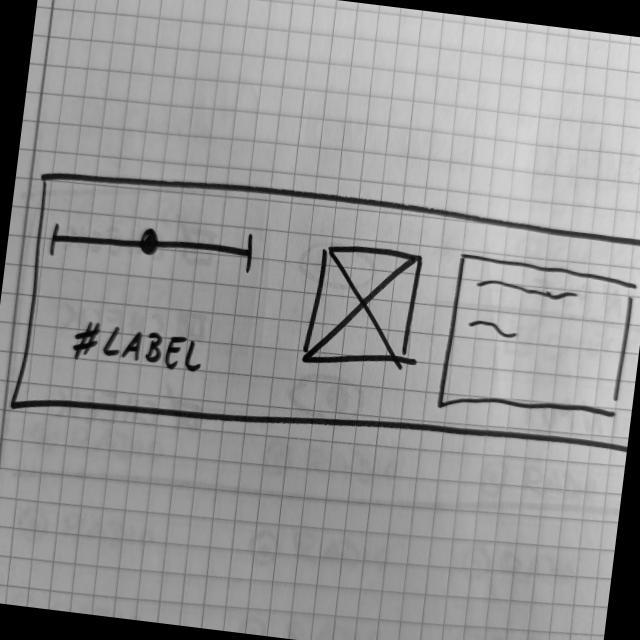container: (8, 156, 640, 485)
image: (299, 238, 427, 380)
label: (69, 317, 211, 380)
slider: (46, 207, 258, 285)
textarea: (434, 248, 640, 434)
